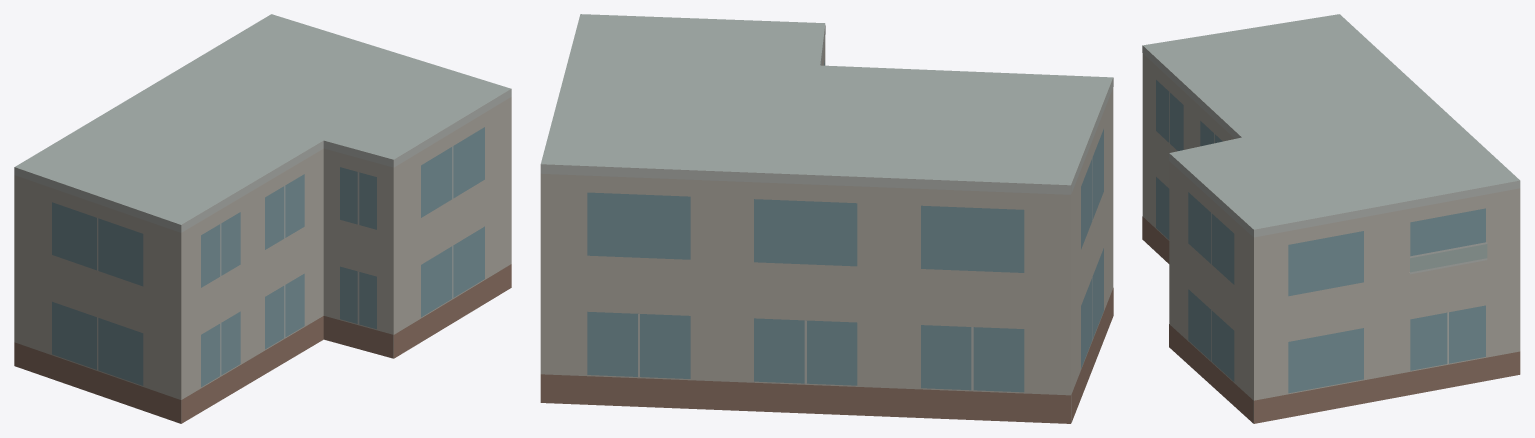
Rendered from survey-upis-32889459.glb.
3 renders of one model, left to right at view 1: azimuth 30°, elevation 25°; view 2: azimuth 150°, elevation 25°; view 3: azimuth 270°, elevation 25°, orthographic. The views are drawn at different scales.
Visible parts, largest first — view 1: survey-upis-32889459.tmp; view 2: survey-upis-32889459.tmp; view 3: survey-upis-32889459.tmp.
Part boxes in pixels (x1,y1,x2,y2): survey-upis-32889459.tmp: (14,14,511,423); survey-upis-32889459.tmp: (540,14,1113,423); survey-upis-32889459.tmp: (1142,14,1520,423).
Size of the model in its own units: 14.55 by 6.1 by 10.77.
